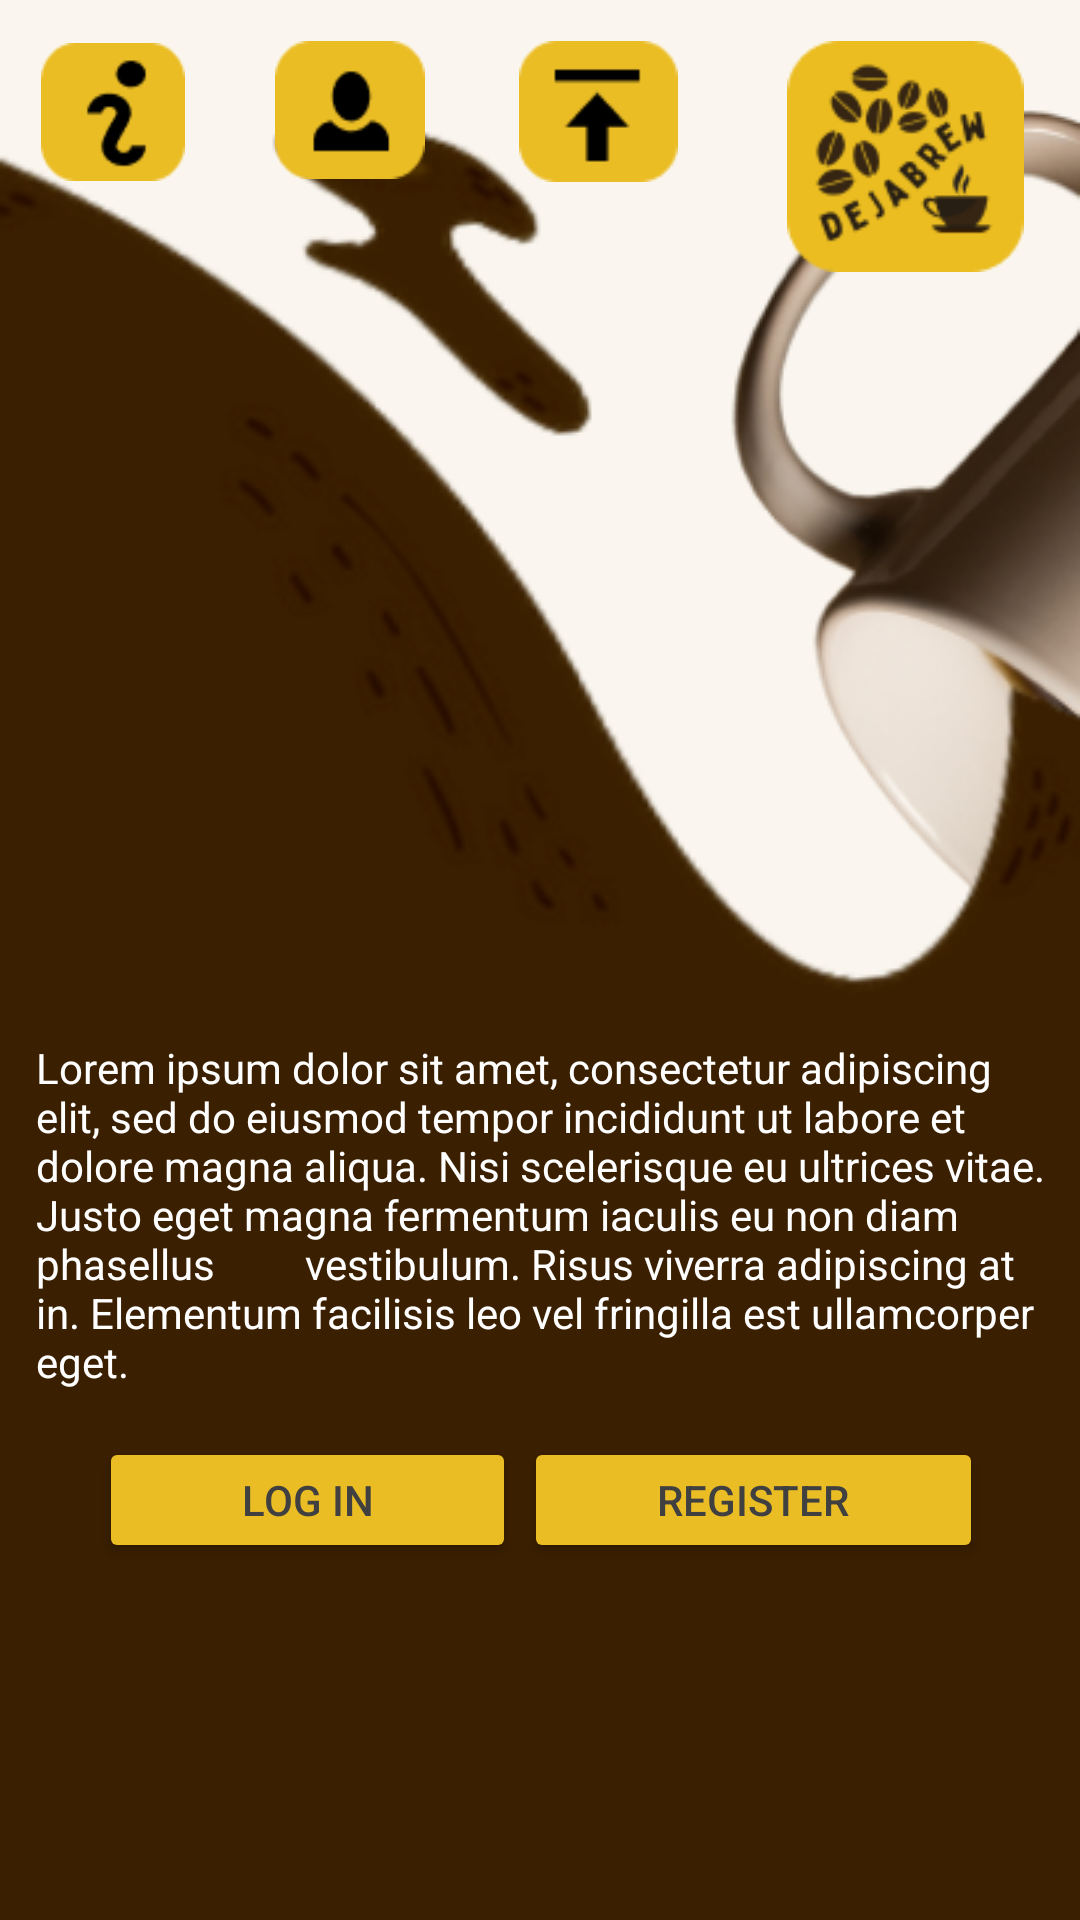

Icon click points for this 1080w x 1920h phone screenshot, format (x,y):
about: (113,112)
editprofile: (350,110)
upload: (598,111)
